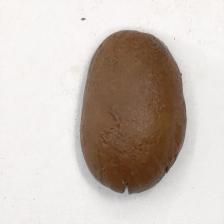NG: (115, 163, 173, 195)
